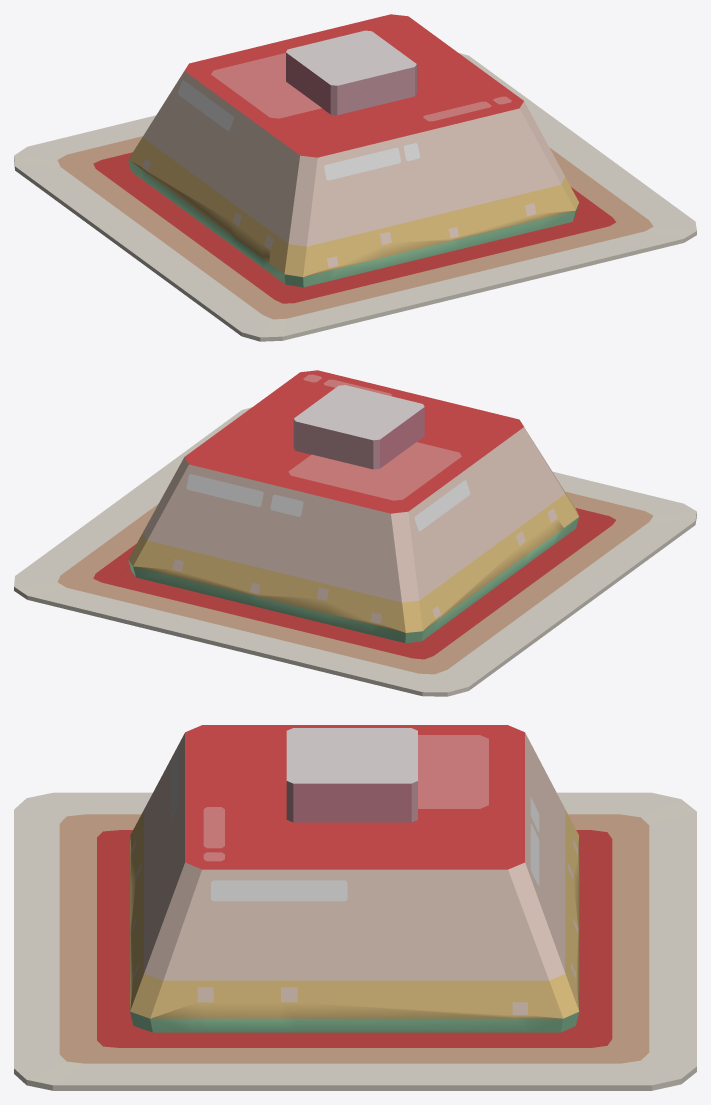
Rendered from BC_cookrecipe_S_34.fbx.
The picture shows the model from 3 angles, top to bottom: view 1: azimuth 30°, elevation 25°; view 2: azimuth 150°, elevation 25°; view 3: azimuth 270°, elevation 25°; orthographic projection. The views are drawn at different scales.
Parts seen in each view (by area): view 1: BC_cookrecipe_19_1, base, BC_cookrecipe_19_2; view 2: BC_cookrecipe_19_1, base, BC_cookrecipe_19_2; view 3: BC_cookrecipe_19_1, base, BC_cookrecipe_19_2.
Part boxes in pixels (x1=…): BC_cookrecipe_19_1: x1=128, y1=14, x2=578, y2=287; base: x1=14, y1=53, x2=696, y2=341; BC_cookrecipe_19_2: x1=286, y1=30, x2=416, y2=115; BC_cookrecipe_19_1: x1=128, y1=370, x2=578, y2=643; base: x1=14, y1=407, x2=696, y2=696; BC_cookrecipe_19_2: x1=293, y1=385, x2=424, y2=469; BC_cookrecipe_19_1: x1=130, y1=725, x2=579, y2=1032; base: x1=14, y1=792, x2=696, y2=1090; BC_cookrecipe_19_2: x1=286, y1=728, x2=417, y2=822.
Size of the model in its own units: 3.47 by 1.03 by 3.42.
